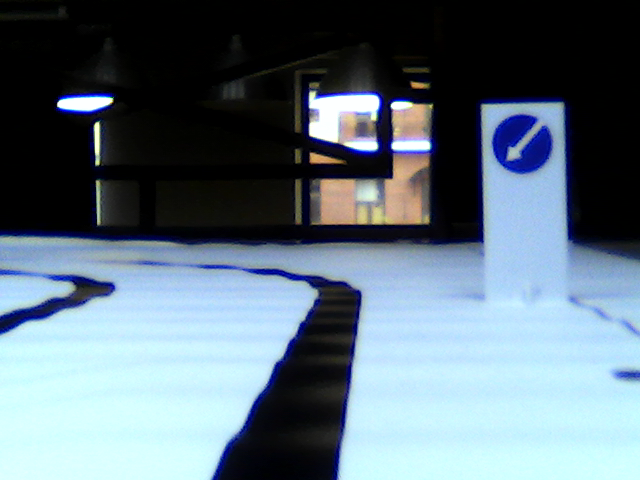prep: (490, 115, 552, 171)
